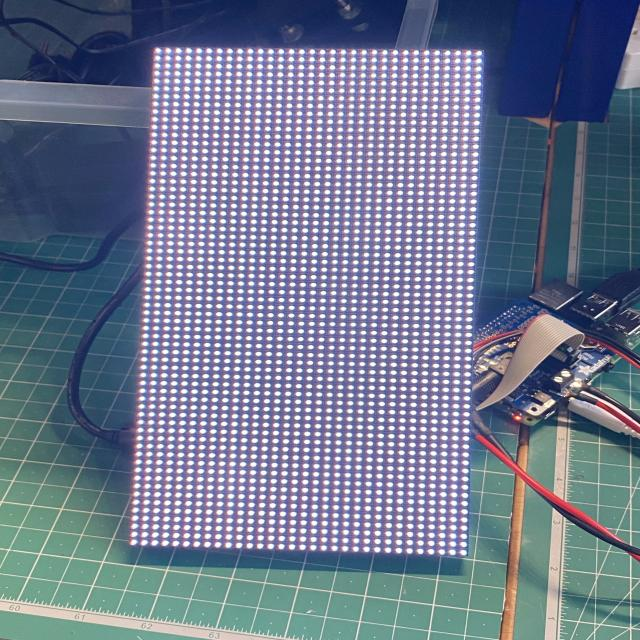matrix: (118, 41, 493, 580)
